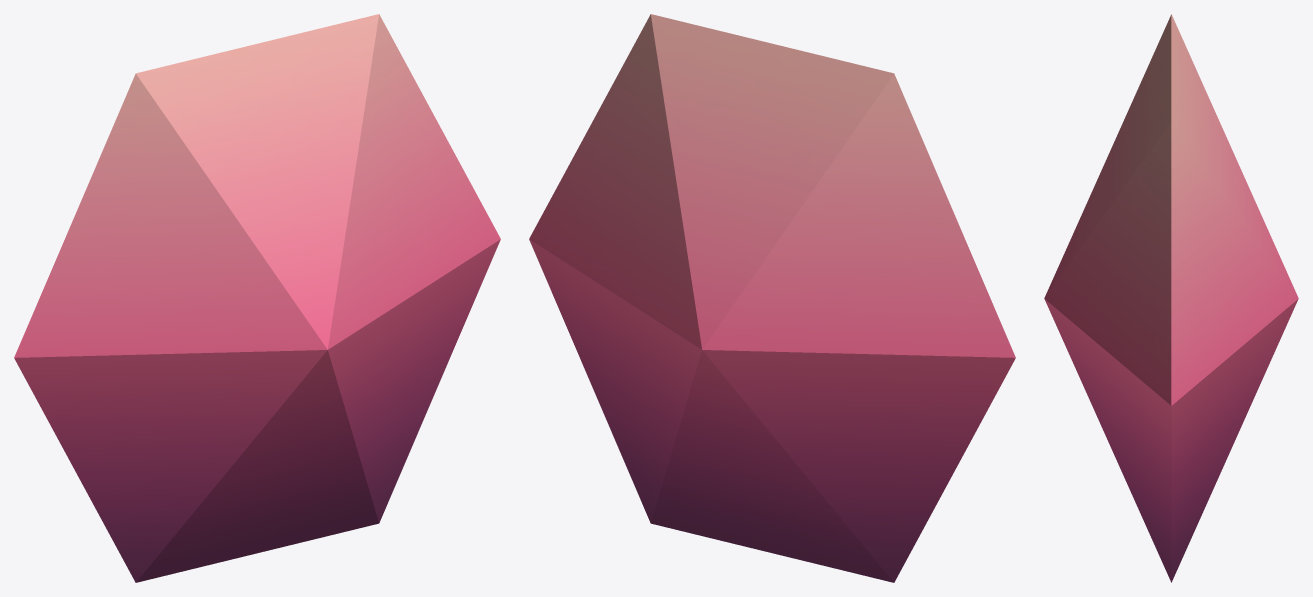
The model's file is gems4.glb.
The picture shows the model from 3 angles, left to right: view 1: azimuth 30°, elevation 25°; view 2: azimuth 150°, elevation 25°; view 3: azimuth 270°, elevation 25°; orthographic projection. The views are drawn at different scales.
Parts seen in each view (by area): view 1: Gem10; view 2: Gem10; view 3: Gem10.
Boxes of the visible parts, bbox=[...] form: Gem10: bbox=[14, 14, 500, 582]; Gem10: bbox=[529, 14, 1015, 582]; Gem10: bbox=[1044, 14, 1298, 582].
Size of the model in its own units: 1 by 1 by 0.5.
Materials: 1 (1 with a texture image).
